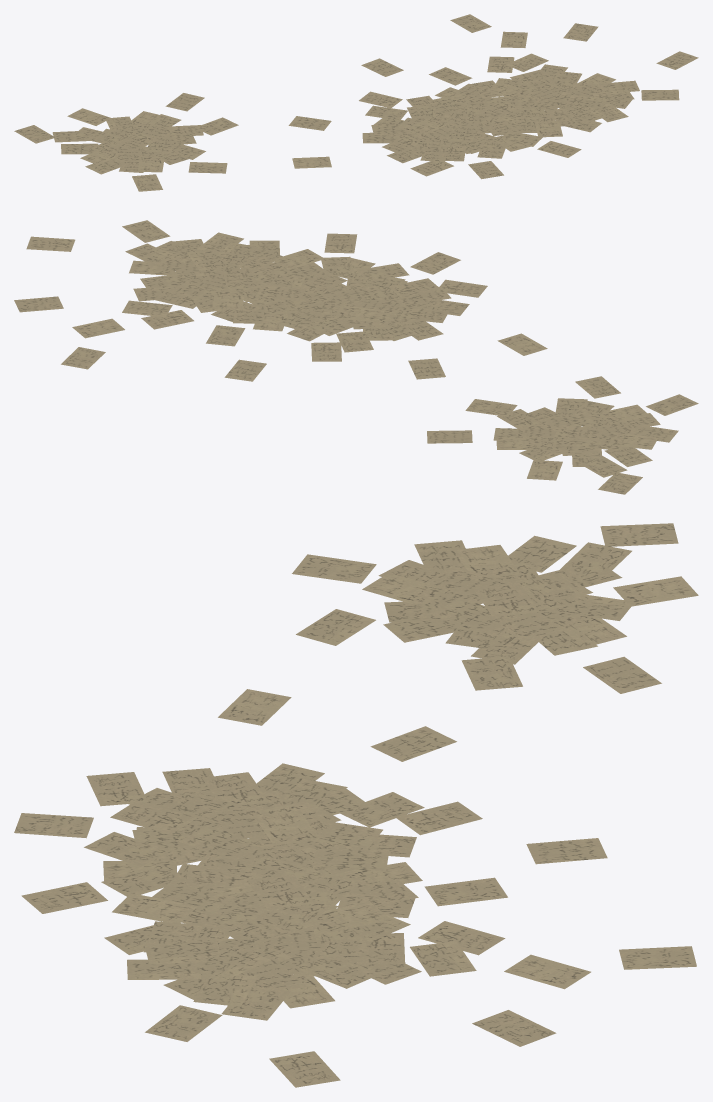
The model's file is Room01_ScatteredPapers_fix.fbx.
3 views of the same model, one above another, from view 1: azimuth 30°, elevation 25°; view 2: azimuth 150°, elevation 25°; view 3: azimuth 270°, elevation 25° (orthographic). The views are drawn at different scales.
Visible parts, largest first — view 1: Paper.014, Paper.015; view 2: Paper.014, Paper.015; view 3: Paper.014, Paper.015.
Boxes of the visible parts, x1=… form: Paper.014: x1=288, y1=14, x2=698, y2=179; Paper.015: x1=14, y1=93, x2=238, y2=191; Paper.014: x1=14, y1=220, x2=547, y2=381; Paper.015: x1=427, y1=376, x2=698, y2=494; Paper.014: x1=14, y1=689, x2=696, y2=1087; Paper.015: x1=292, y1=523, x2=698, y2=693.
Size of the model in its own units: 2076 by 2.97 by 1065.
